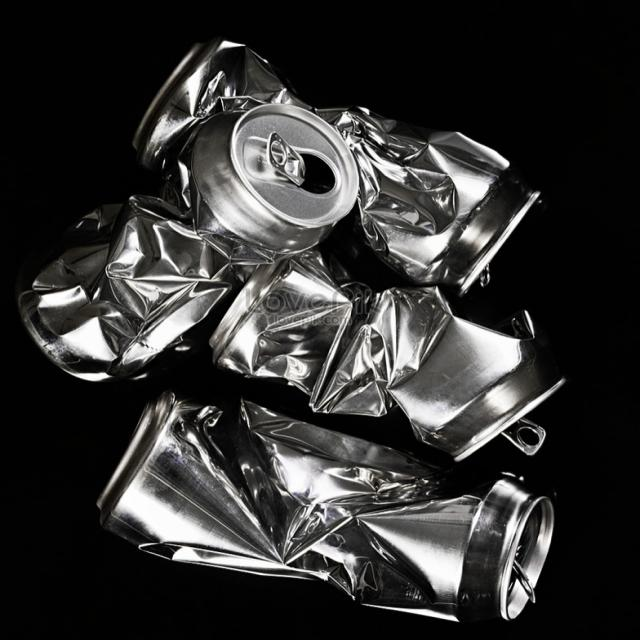recyclable: (83, 386, 559, 626), (22, 77, 355, 392), (205, 238, 581, 466)
